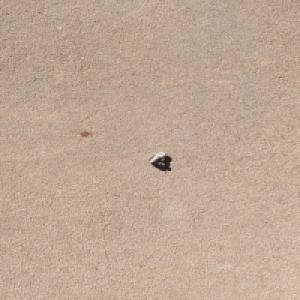MetalPart: (147, 151, 168, 166)
